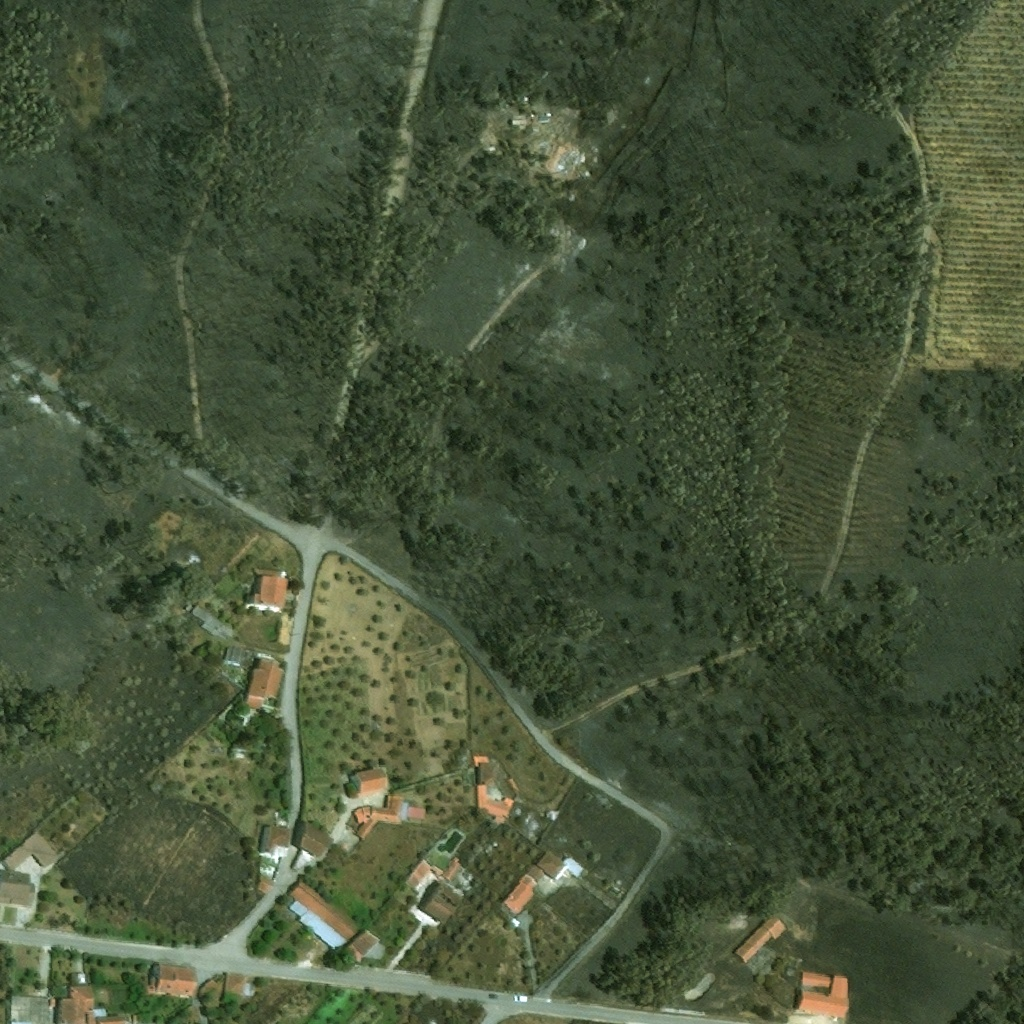0 no-damage: (286, 876, 362, 954), (222, 645, 286, 710), (733, 912, 787, 964), (352, 794, 404, 841), (2, 830, 59, 870), (419, 879, 463, 924), (49, 985, 101, 1023), (800, 976, 849, 1014), (249, 572, 290, 614), (148, 964, 197, 997), (476, 785, 514, 825), (195, 609, 236, 644), (502, 874, 537, 915), (0, 870, 35, 907), (7, 993, 49, 1023), (300, 821, 333, 858), (350, 766, 389, 796), (222, 972, 256, 999), (259, 825, 291, 853), (350, 930, 380, 959), (536, 850, 565, 879), (405, 857, 432, 887), (441, 857, 465, 883), (476, 761, 498, 785), (364, 941, 388, 961), (253, 873, 274, 895), (563, 857, 583, 877), (526, 864, 547, 883), (803, 973, 830, 986), (553, 865, 568, 881), (407, 807, 426, 819), (97, 1016, 126, 1023), (473, 755, 488, 766), (430, 864, 442, 874), (77, 973, 85, 986)
3 destroyed: (555, 146, 586, 182), (540, 143, 554, 157), (484, 144, 498, 158), (508, 116, 525, 125), (526, 111, 537, 122)
4 un-classified: (546, 224, 560, 240)
